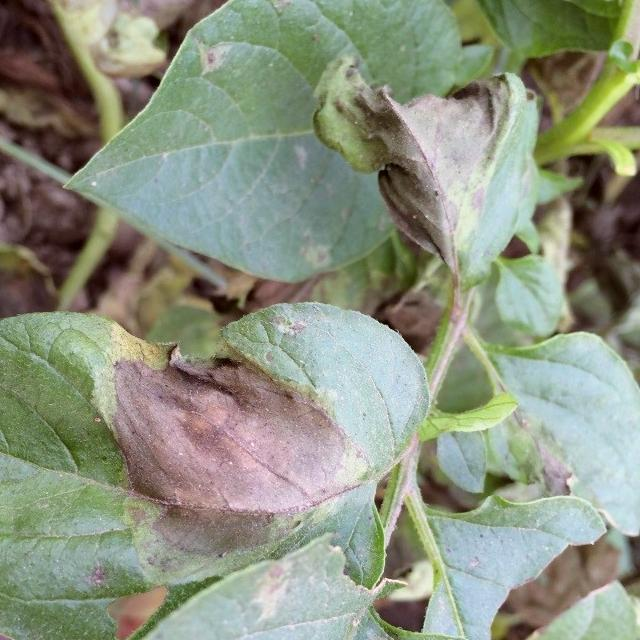Tomato leaf late blight: (72, 287, 453, 528), (321, 61, 554, 294)
